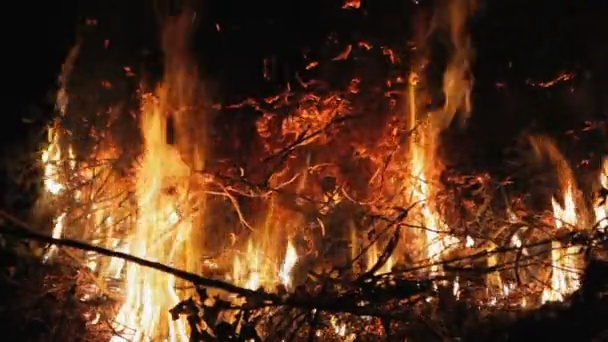fire: (41, 121, 190, 342), (399, 148, 459, 269), (241, 241, 295, 290), (540, 243, 582, 304), (591, 166, 608, 226), (553, 185, 576, 226)
